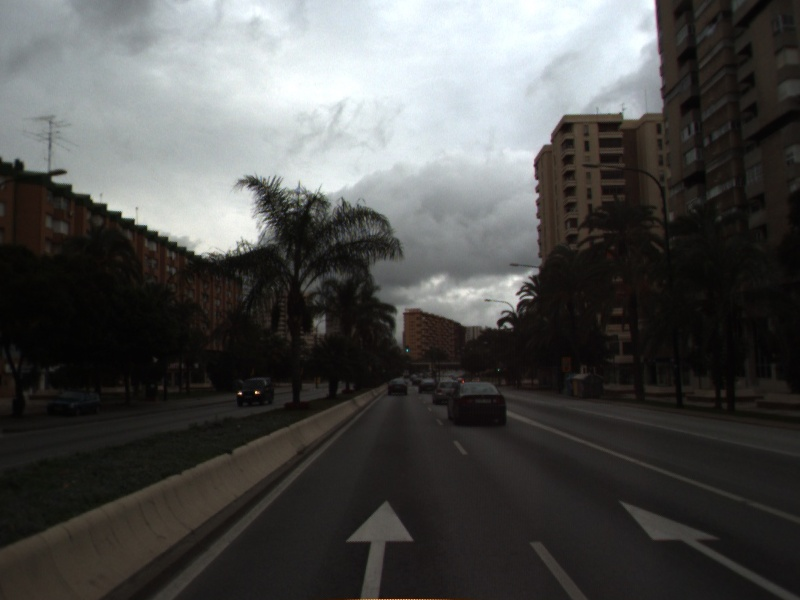STRAIGHT: (614, 496, 800, 600), (342, 495, 419, 600)
